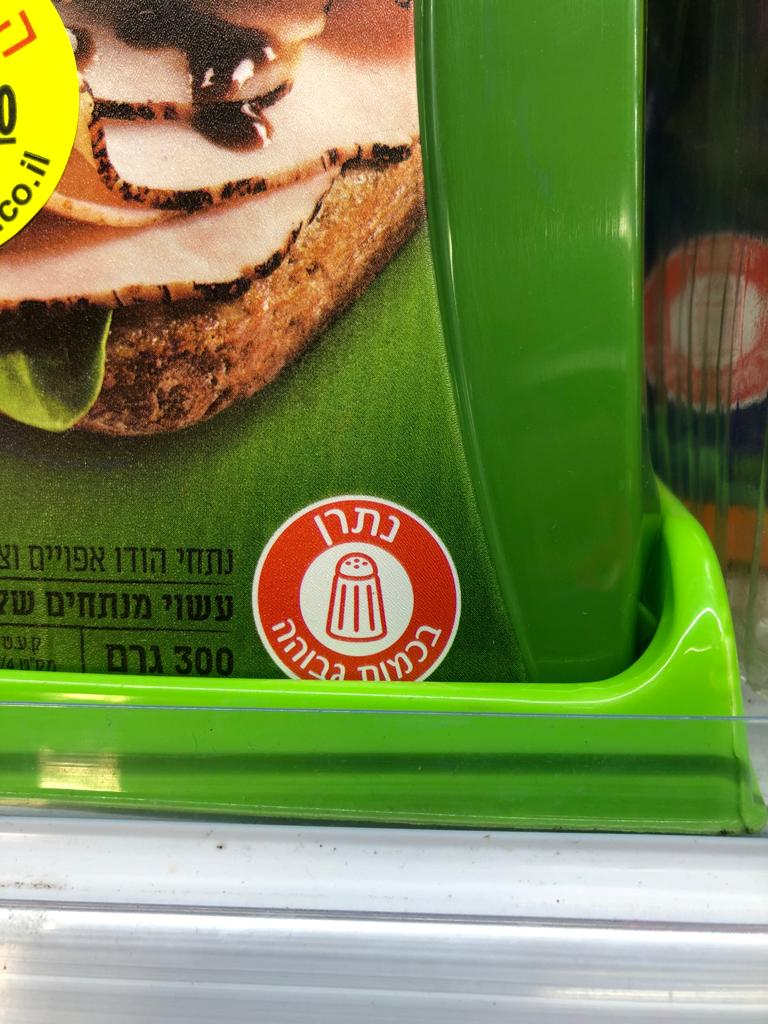salt: (247, 493, 463, 686)
